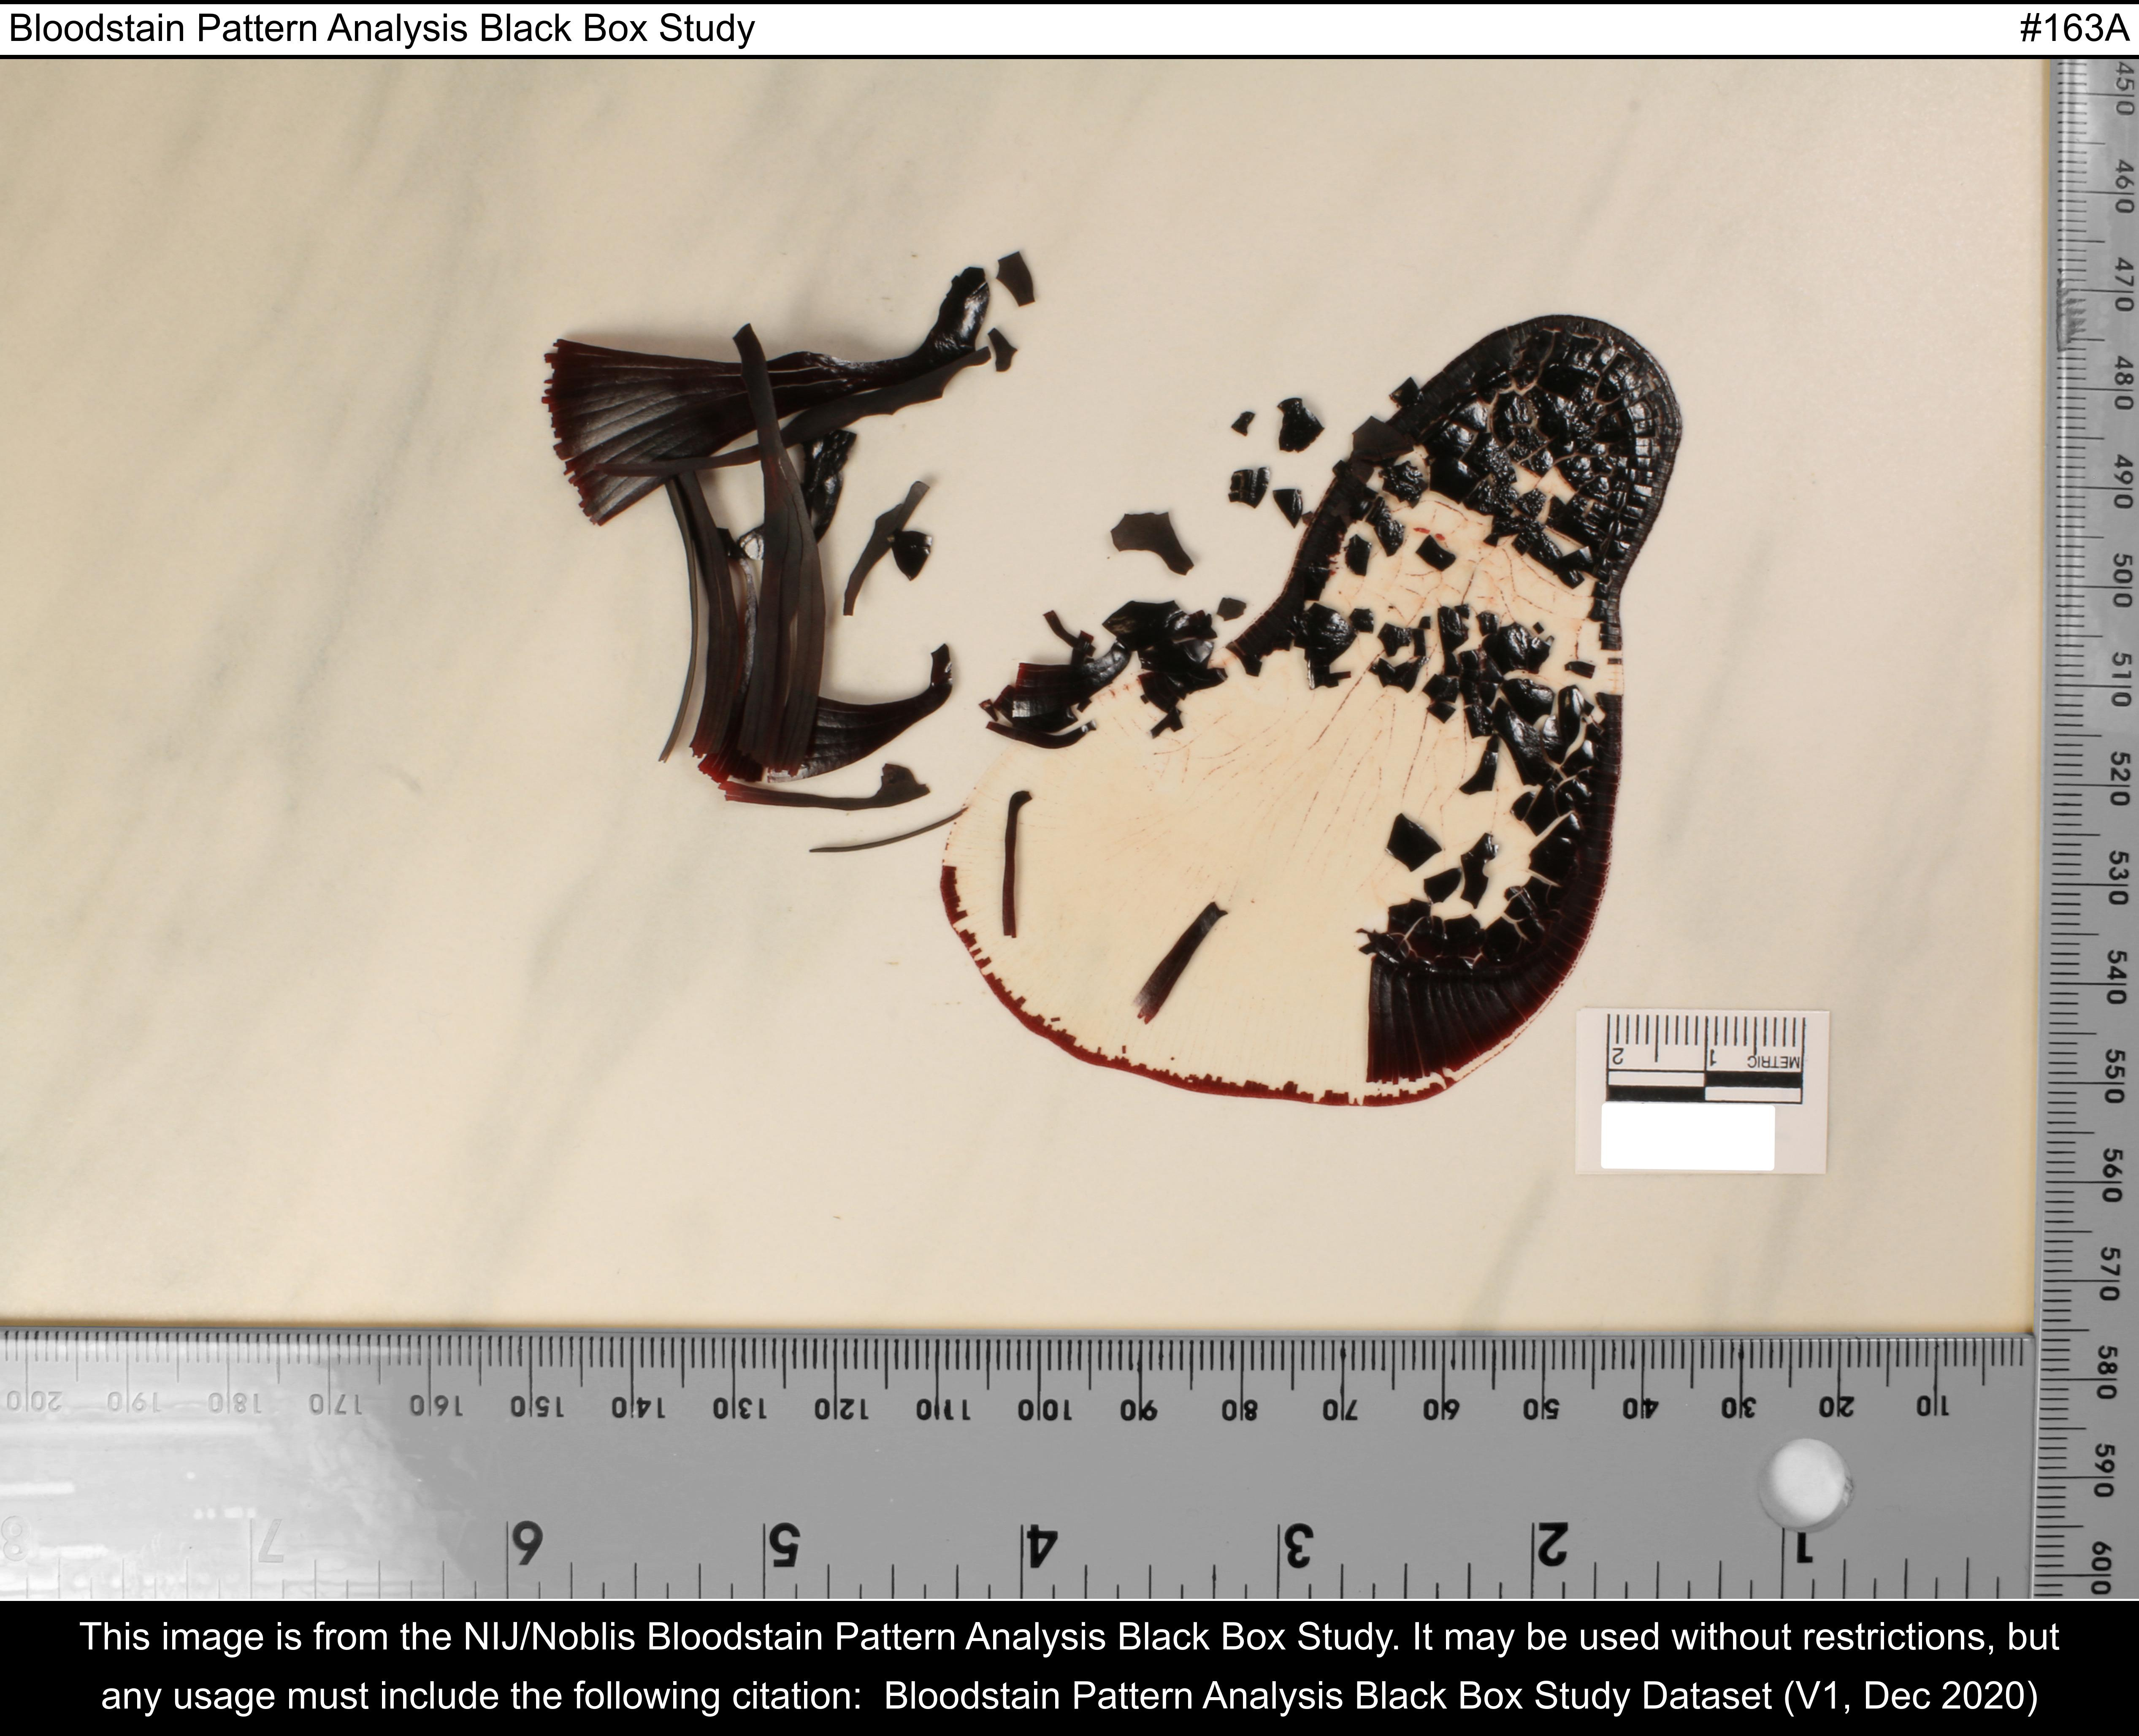Transfer: (675, 753, 1484, 1118)
